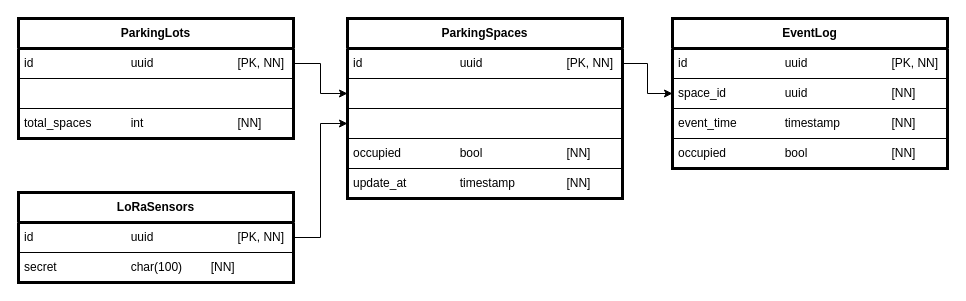
This 966x301 diagram has some shape labels left out. The centre of each missing label's shape, as x and y in pixels:
"lot_id uuid [NN]" goes at (x=484, y=93).
"name varchar(100) [NN]" goes at (x=156, y=93).
"sensor_id uuid [NN]" goes at (x=484, y=123).
